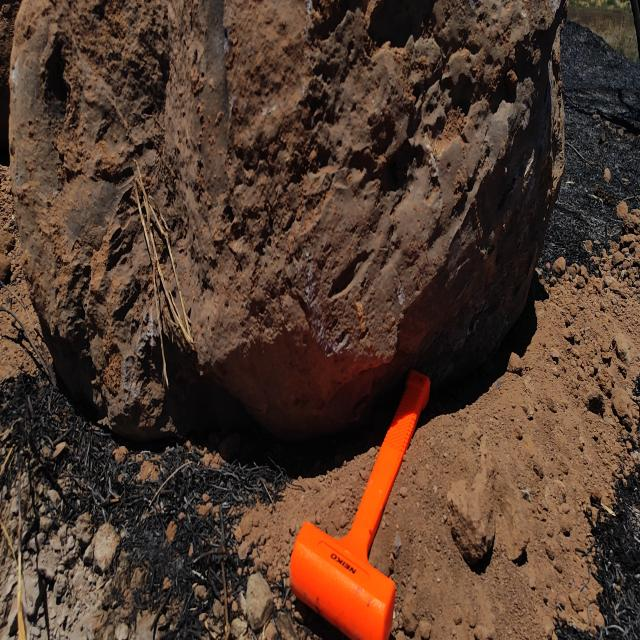Orange_hammer: (288, 367, 431, 638)
rock: (0, 0, 559, 389)
